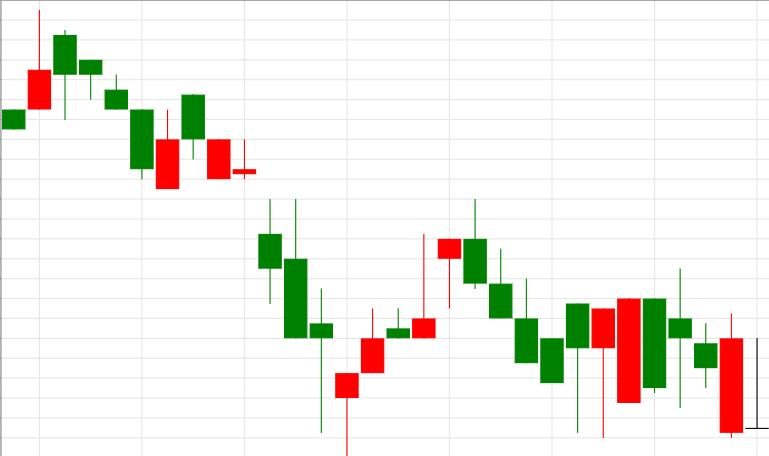hammer_rise: (182, 95, 359, 456)
